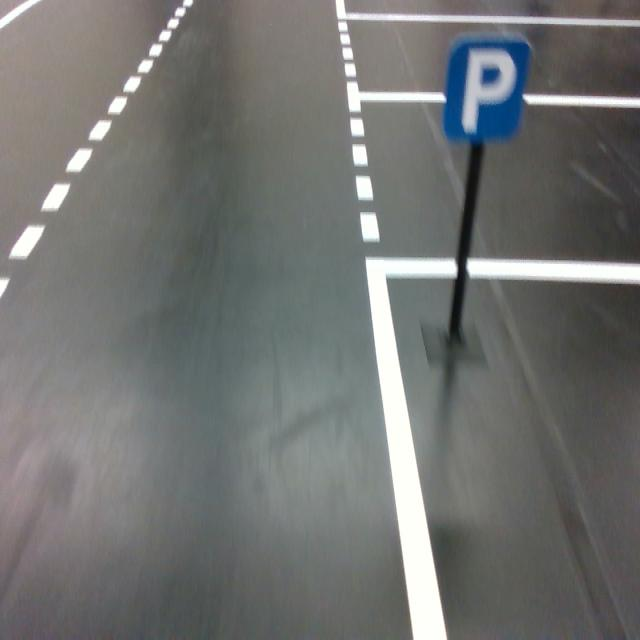parking-sign: (442, 34, 532, 143)
